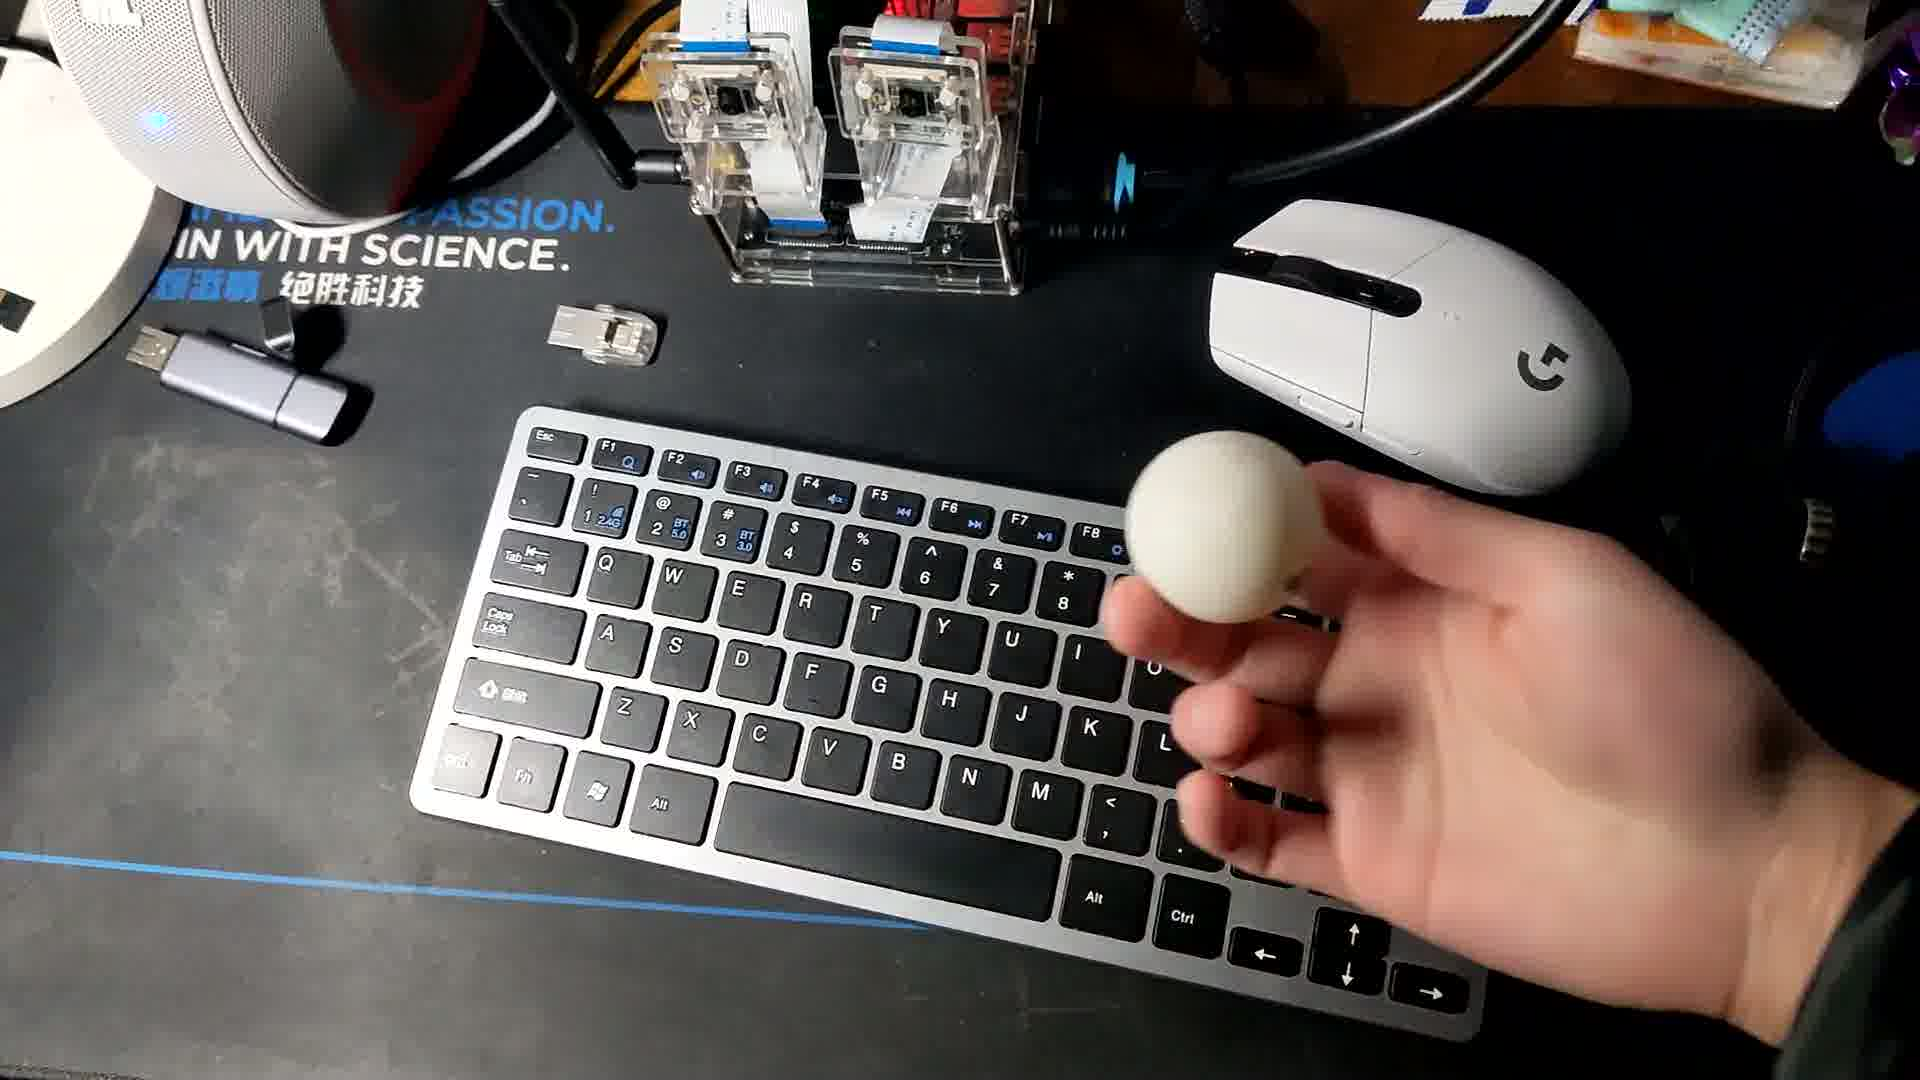Ball: (1121, 429, 1312, 626)
